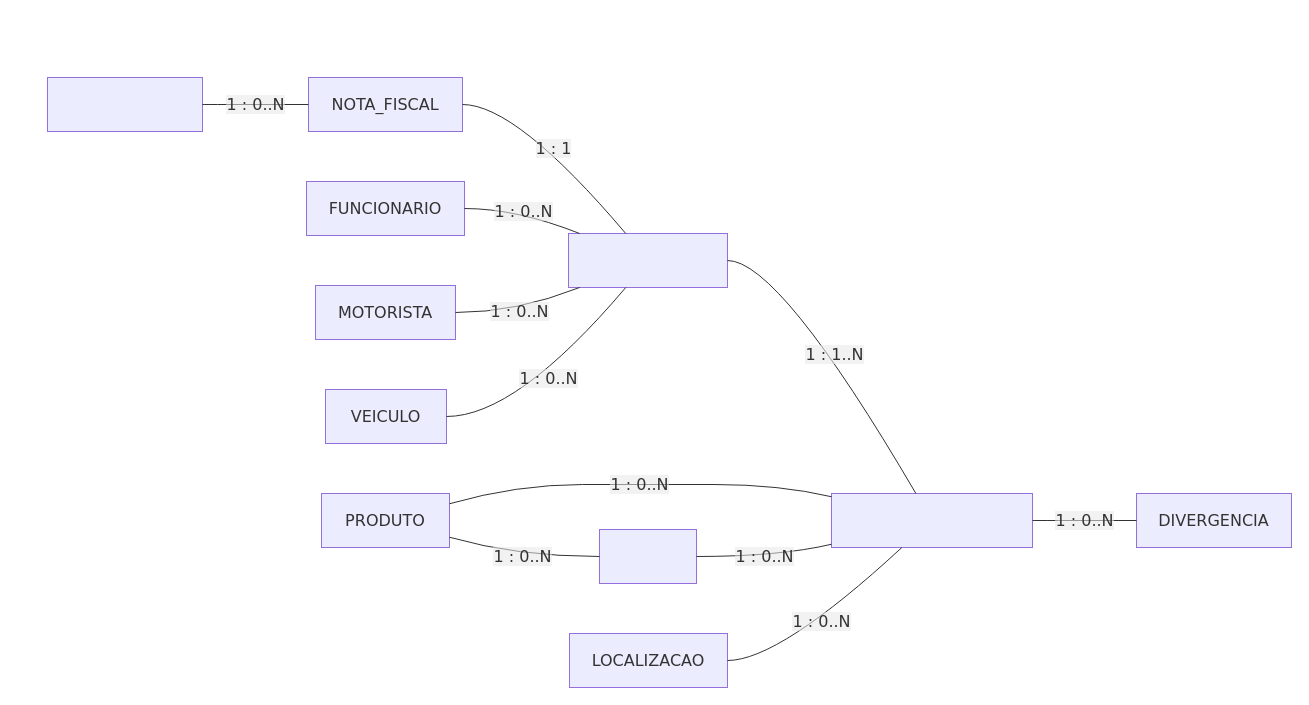
The diagram is 1309 pixels wide and 705 high, and some of its shapes have lost their labels. Here are the shapes that lost their labels. From the top down, the centre of each, then its label:
the point at 124,104: FORNECEDOR
the point at 648,260: RECEBIMENTO
the point at 931,520: ITEM_RECEBIMENTO
the point at 647,556: LOTE
